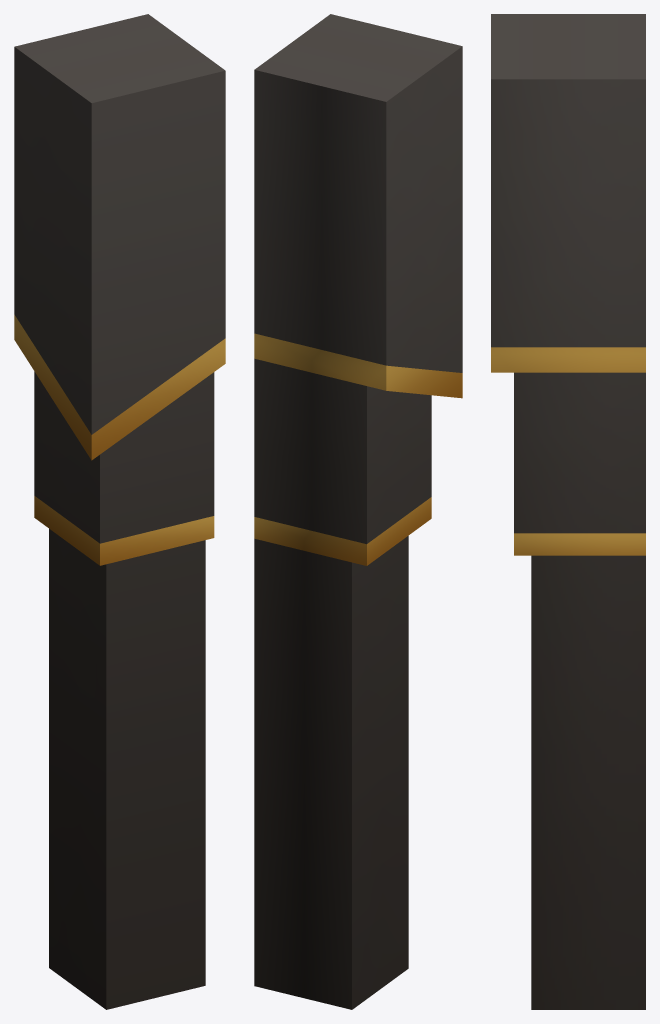
File: ruine_pilier.FBX
3 renders of one model, left to right at view 1: azimuth 30°, elevation 25°; view 2: azimuth 150°, elevation 25°; view 3: azimuth 270°, elevation 25°, orthographic.
Parts seen in each view (by area): view 1: ruine_pilier; view 2: ruine_pilier; view 3: ruine_pilier.
Boxes of the visible parts, left/top/right/bottom form: ruine_pilier: left=14, top=14, right=225, bottom=1009; ruine_pilier: left=254, top=14, right=462, bottom=1009; ruine_pilier: left=491, top=14, right=645, bottom=1009.
Size of the model in its own units: 1.12 by 7.45 by 1.12.
